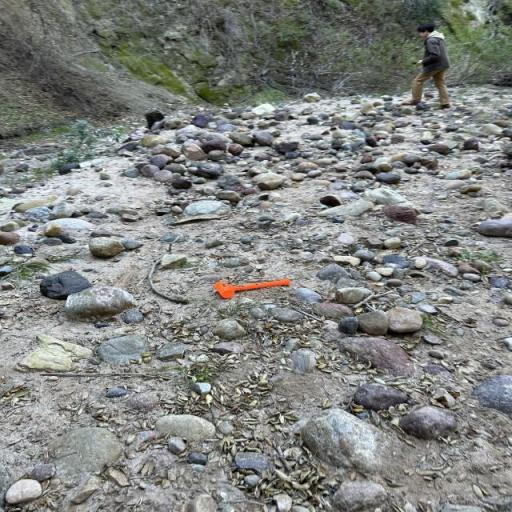mallet: (214, 278, 291, 298)
